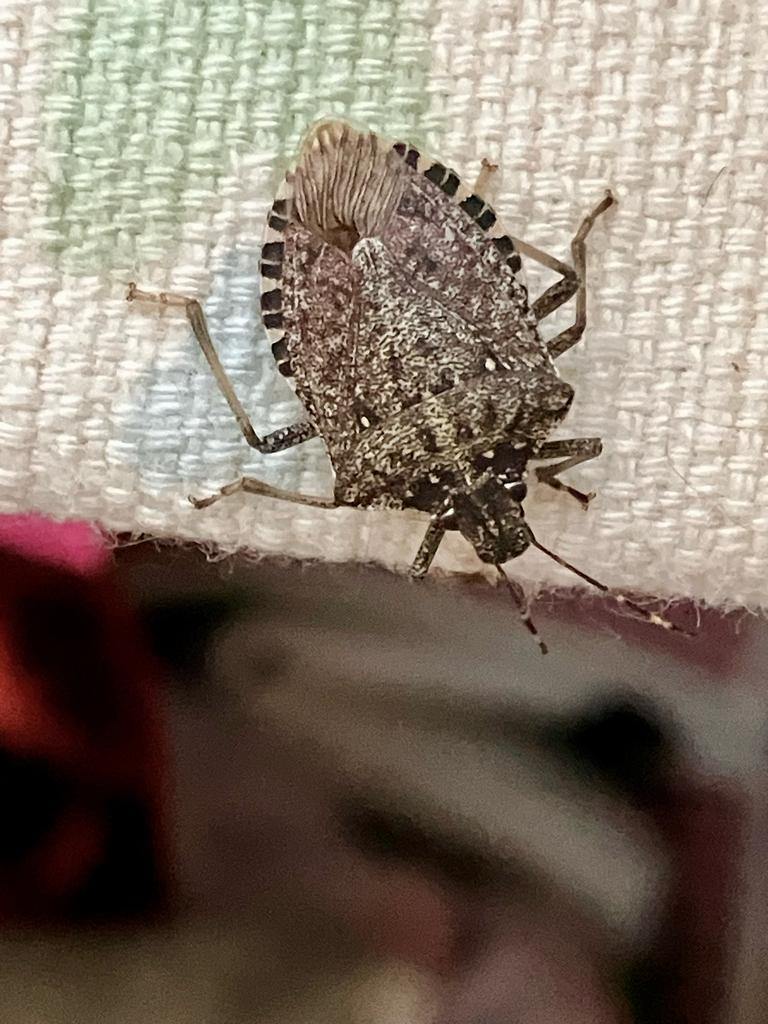stink_bugs: (95, 31, 753, 724)
